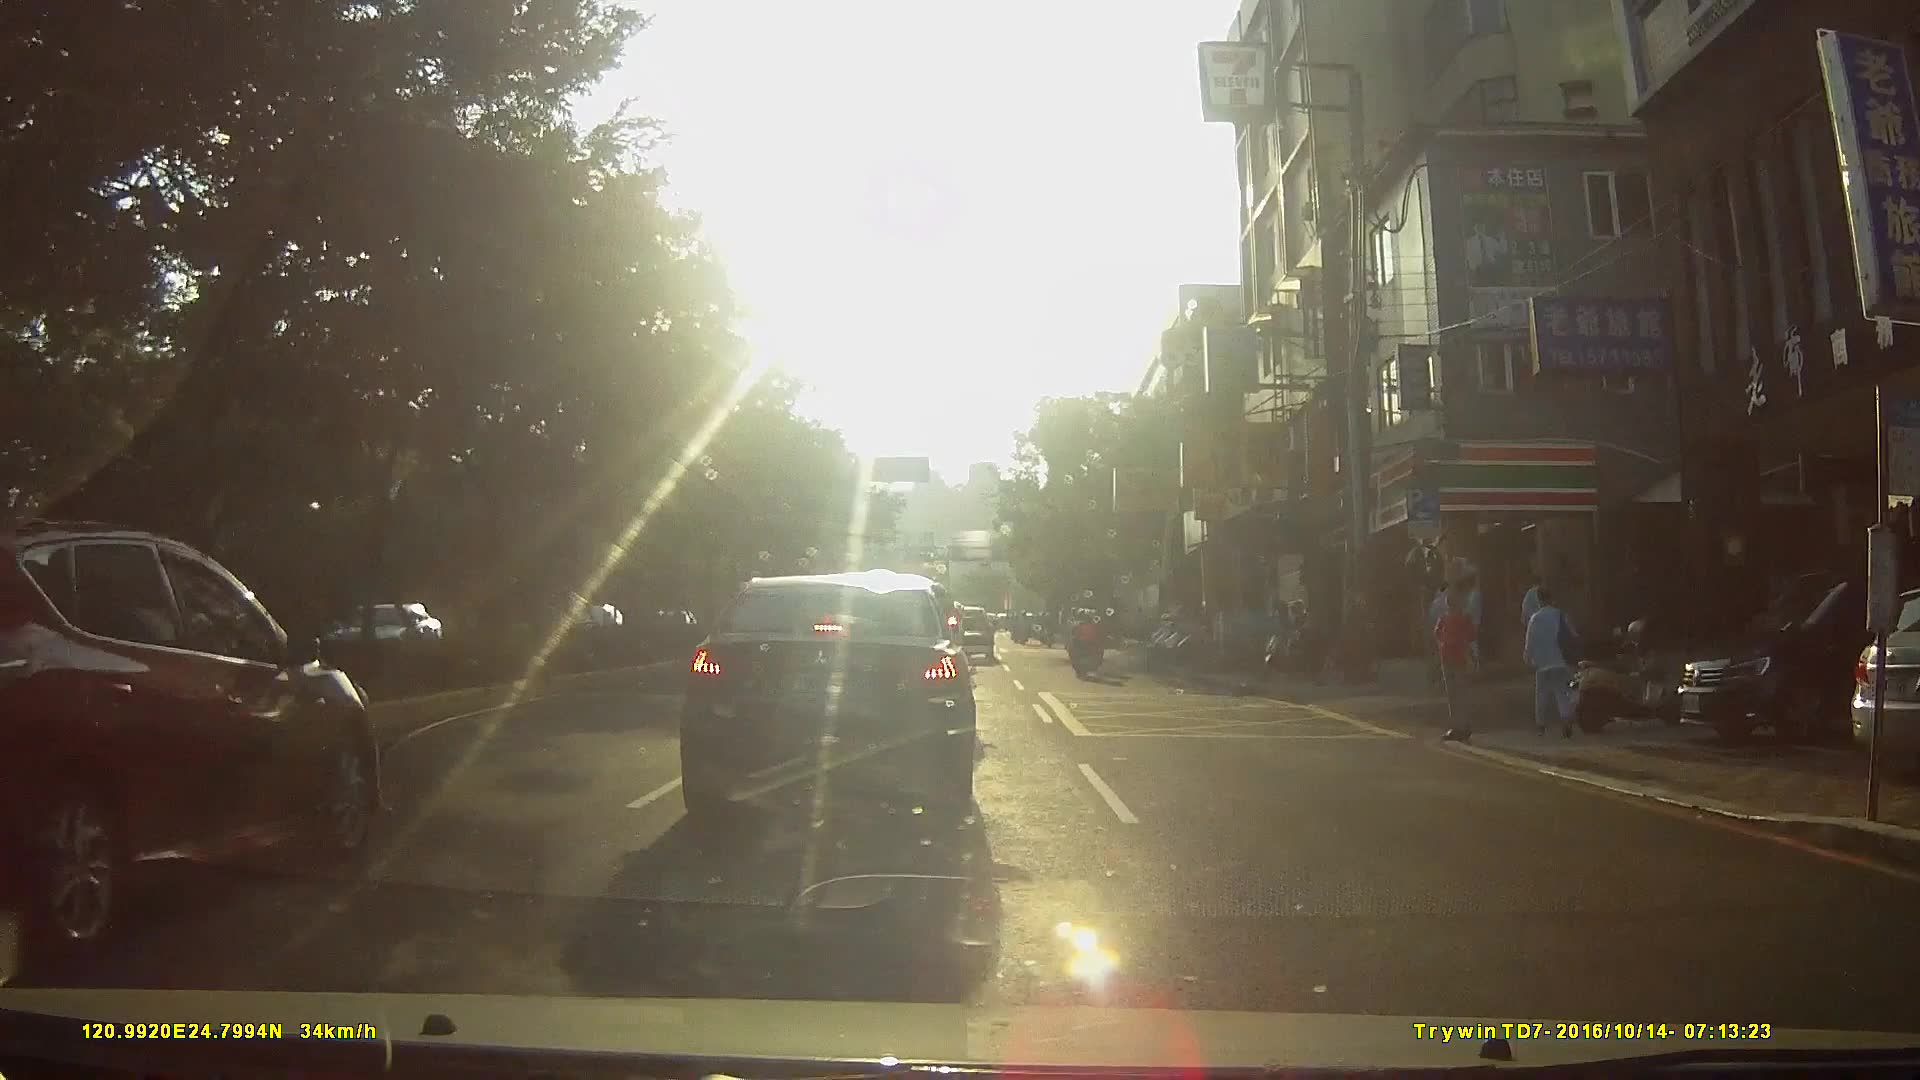pedestrian: (1516, 585, 1579, 734), (1435, 590, 1482, 747), (1428, 578, 1463, 680)
rider: (1066, 608, 1104, 682), (1062, 606, 1087, 659)
vehicle: (1, 515, 408, 940), (678, 573, 992, 799), (1663, 560, 1920, 753), (1828, 583, 1920, 769), (322, 599, 449, 666)
